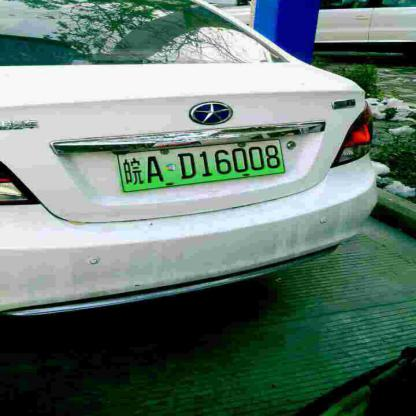lp: (117, 139, 285, 191)
